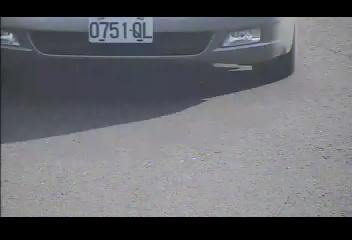plate: (88, 16, 155, 44)
